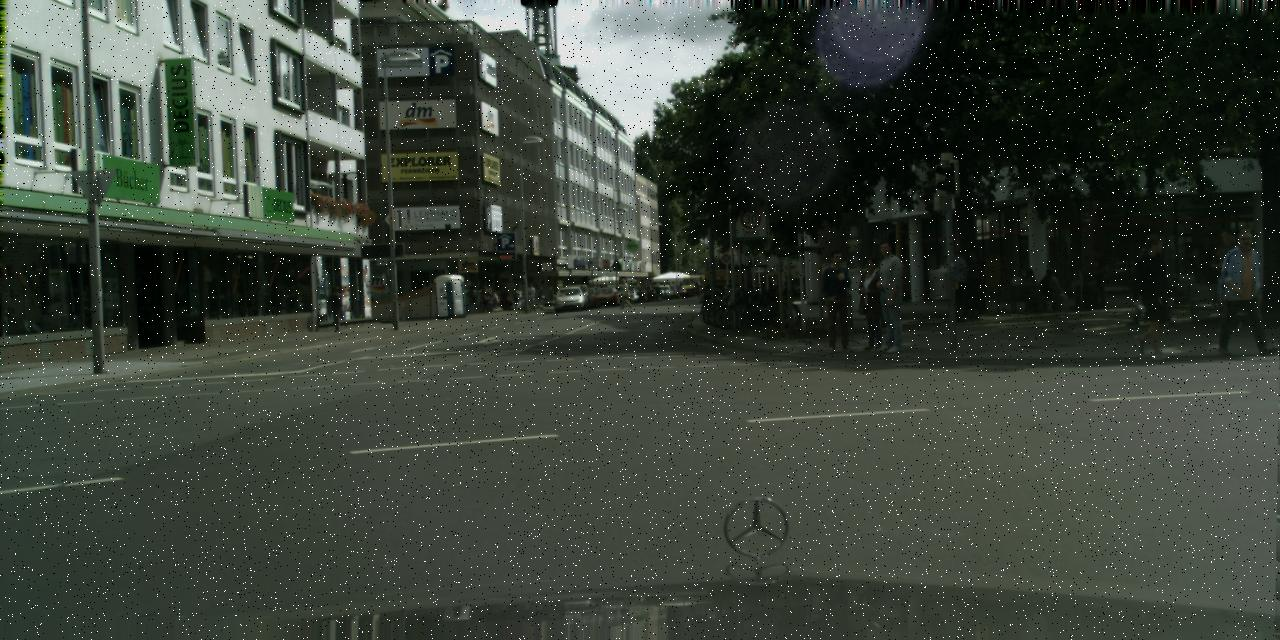ped: (1219, 228, 1270, 354), (1128, 235, 1176, 355), (866, 240, 911, 351), (816, 250, 858, 352), (1206, 228, 1248, 329), (853, 257, 891, 349), (945, 247, 975, 321), (957, 247, 986, 319), (1084, 246, 1109, 309), (327, 286, 345, 332), (480, 287, 500, 313), (618, 278, 631, 308), (466, 288, 476, 313), (525, 284, 535, 308), (510, 286, 519, 310), (502, 290, 510, 309), (692, 280, 697, 292)
